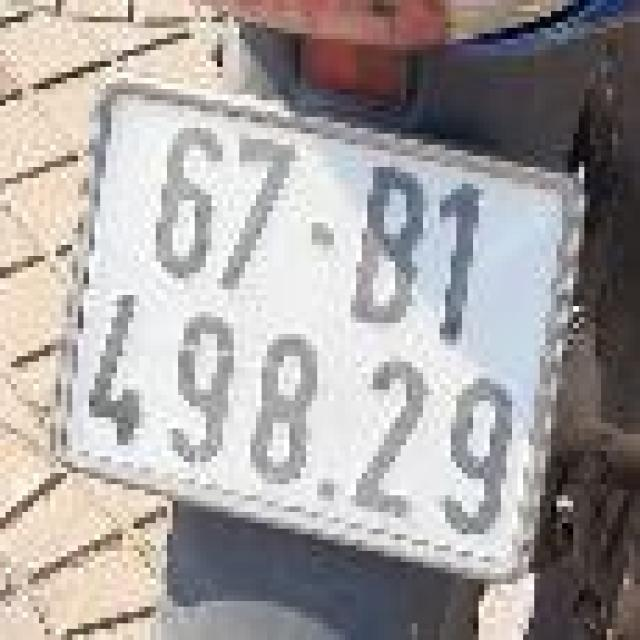1: (418, 177, 493, 354)
2: (341, 347, 437, 529)
4: (79, 282, 164, 452)
6: (146, 118, 234, 290)
7: (213, 129, 301, 303)
8: (237, 320, 331, 498)
9: (431, 365, 522, 548), (157, 303, 247, 474)
B: (339, 158, 438, 341)
